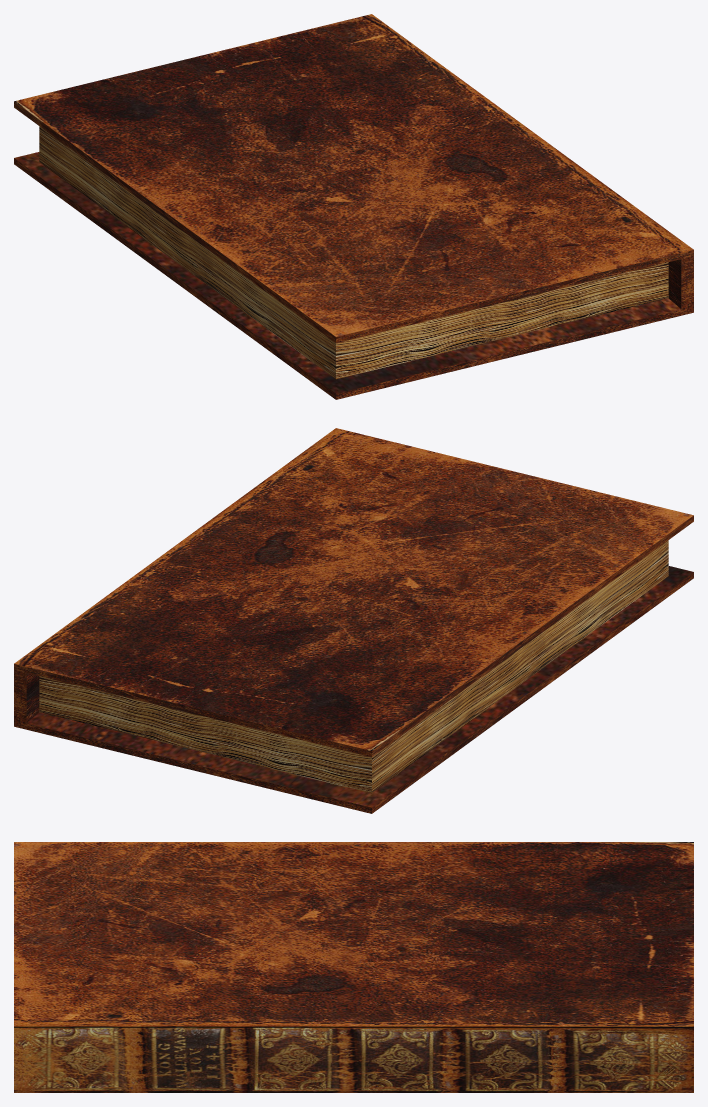
File: Book.fbx
The picture shows the model from 3 angles, top to bottom: view 1: azimuth 30°, elevation 25°; view 2: azimuth 150°, elevation 25°; view 3: azimuth 270°, elevation 25°; orthographic projection. The views are drawn at different scales.
Visible parts, largest first — view 1: Book 1.001, Book 1; view 2: Book 1.001, Book 1; view 3: Book 1.001, Book 1.
Part boxes in pixels (x1,y1,x2,y2): Book 1.001: [14, 14, 693, 355]; Book 1: [14, 139, 693, 399]; Book 1.001: [14, 428, 693, 769]; Book 1: [14, 553, 693, 813]; Book 1.001: [14, 842, 693, 1059]; Book 1: [14, 1059, 693, 1092].
Bounding box in the file's own units: 200 × 33.59 × 312.
